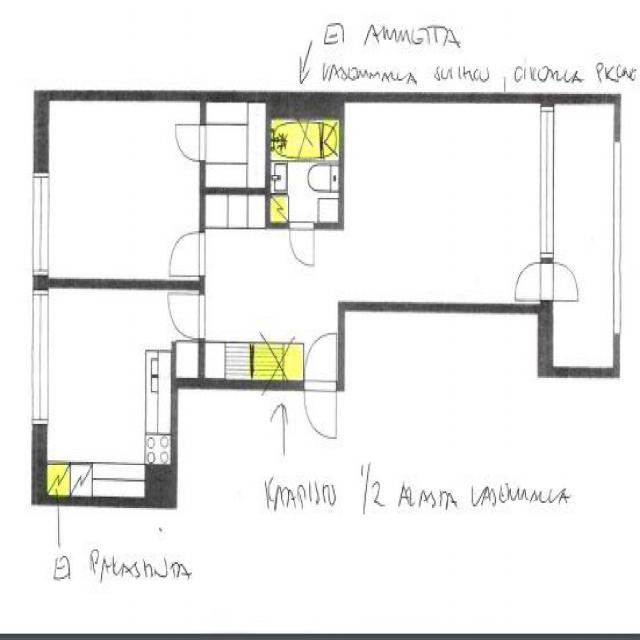door: (168, 294, 206, 339), (168, 232, 206, 277), (306, 382, 336, 437), (306, 338, 336, 392), (541, 263, 580, 301), (515, 263, 553, 301), (173, 124, 206, 161), (289, 220, 313, 264)
